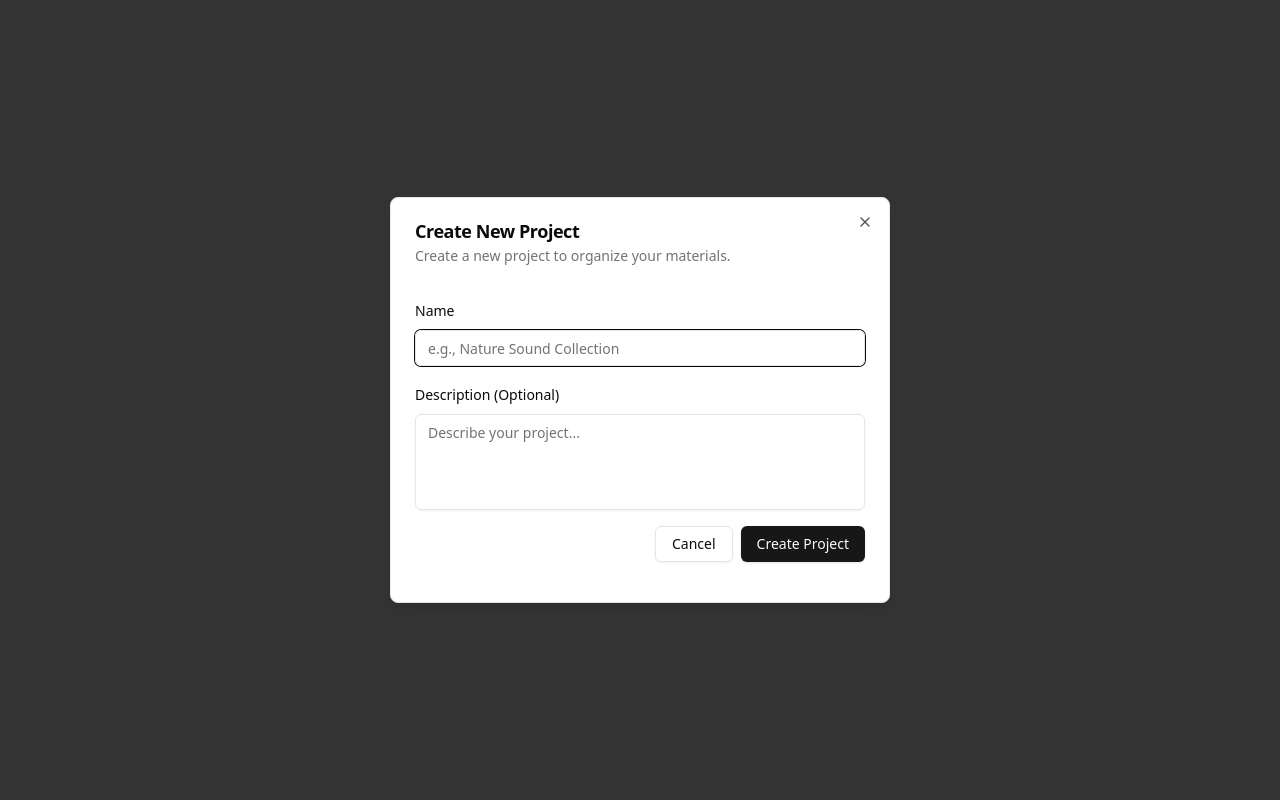
Scenario: ProjectFormModal › disables form and shows loading state during submission
Type "Test Project" into the field labelled "Name" at (640, 348), box [415,330,865,366]
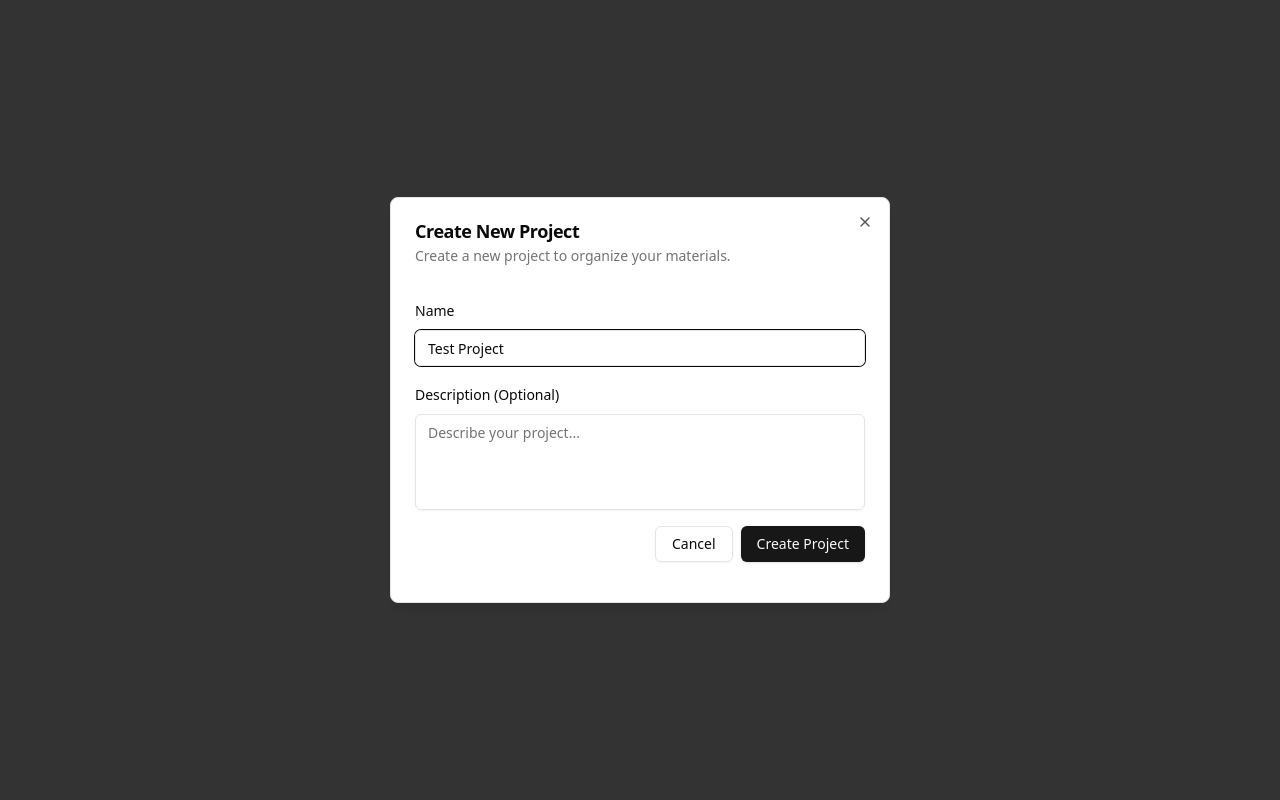
Click the button "Create Project" at (803, 544), box [741,526,865,562]
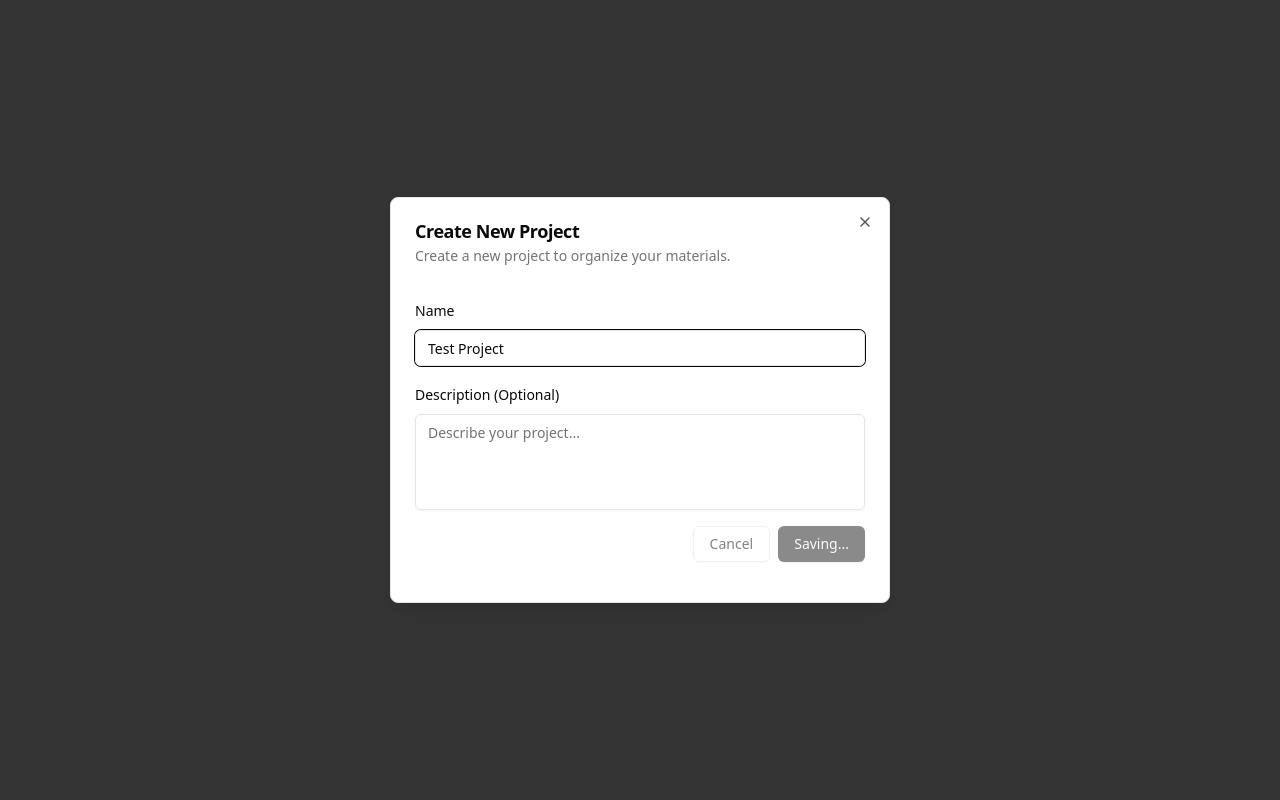
Now the button "Saving..." is shown, box [778,526,865,562]
Now the button "Cancel" is disabled, box [693,526,770,562]
